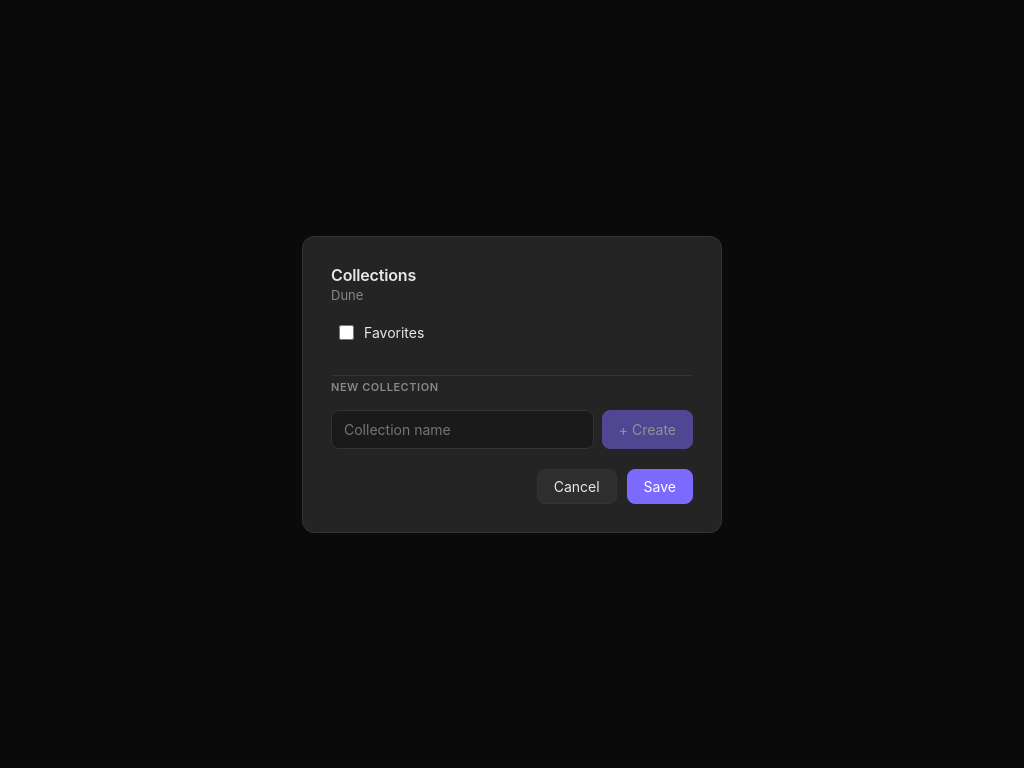
CollectionsModal › creates a new collection and auto-selects it
Type "To Read" into the field with placeholder "Collection name" at (462, 429), box [331,410,594,448]
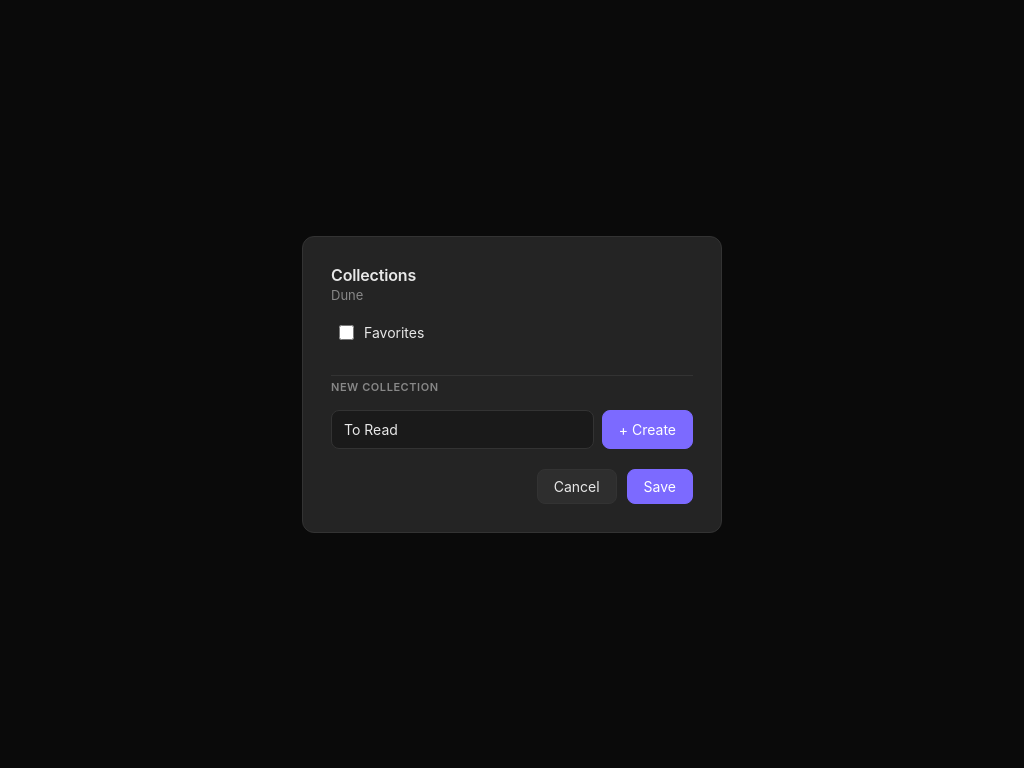
Click the button "+ Create" at (647, 429), box [602,410,693,448]
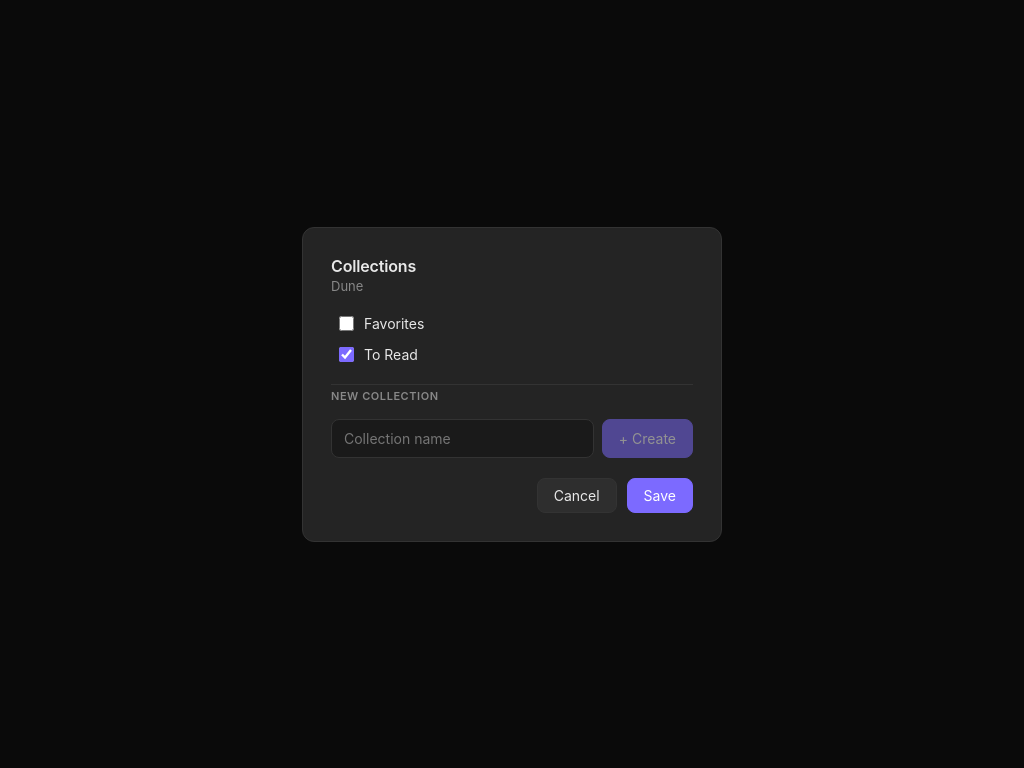
Expected: the text "To Read" is shown, [364,346,418,362]
